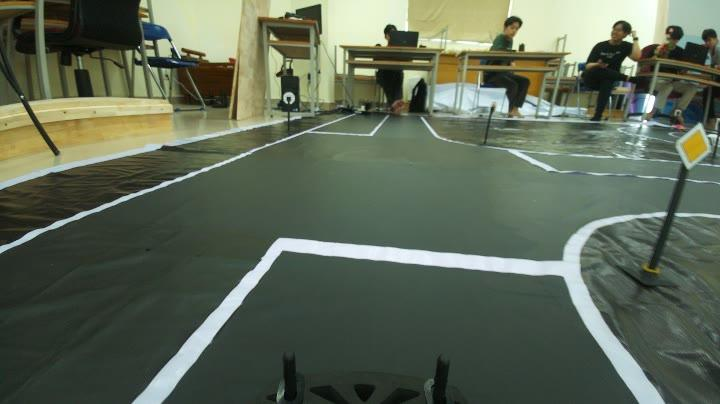priority: (666, 118, 720, 170)
